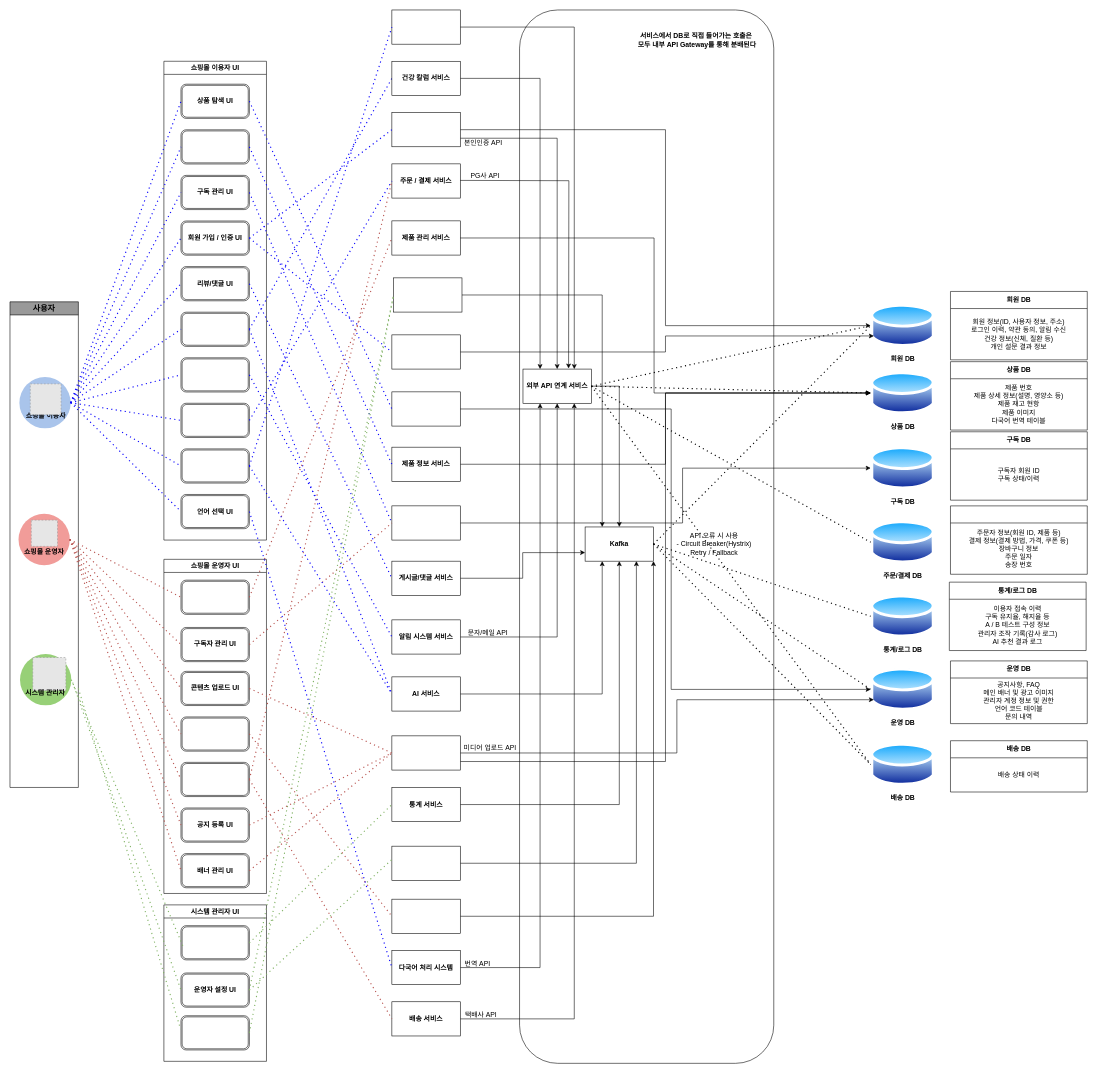
This 1097x1073 diagram has some shape labels left out. Grey dashed boxes stand in for pictures. Each missing label, with the box of its shape:
AI 추천 결과 UI: (180, 448, 249, 483)
CMS 콘텐츠 관리 서비스: (391, 735, 460, 770)
건강 설문 UI: (180, 312, 249, 346)
건강 컨설팅 서비스: (391, 9, 460, 44)
검색 서비스: (391, 391, 460, 426)
결제 UI: (180, 403, 249, 437)
고객 문의 응답 UI: (180, 716, 249, 751)
고객지원 시스템: (391, 899, 460, 933)
관리자 운영 서비스: (393, 277, 462, 312)
구독 관리 서비스: (391, 505, 460, 540)
배치/보안 시스템: (391, 846, 460, 880)
보완 로그 확인 UI: (180, 1015, 249, 1050)
상품 등록 UI: (180, 580, 249, 614)
상품 상세 UI: (180, 129, 249, 164)
알림 설정 UI: (180, 357, 249, 392)
인증 서비스: (391, 112, 460, 147)
주문 결제: (950, 505, 1087, 574)
주문 배송 상태 조회 UI: (180, 762, 249, 797)
통계 대시보드 UI: (180, 925, 249, 960)
회원 서비스: (391, 334, 460, 369)
